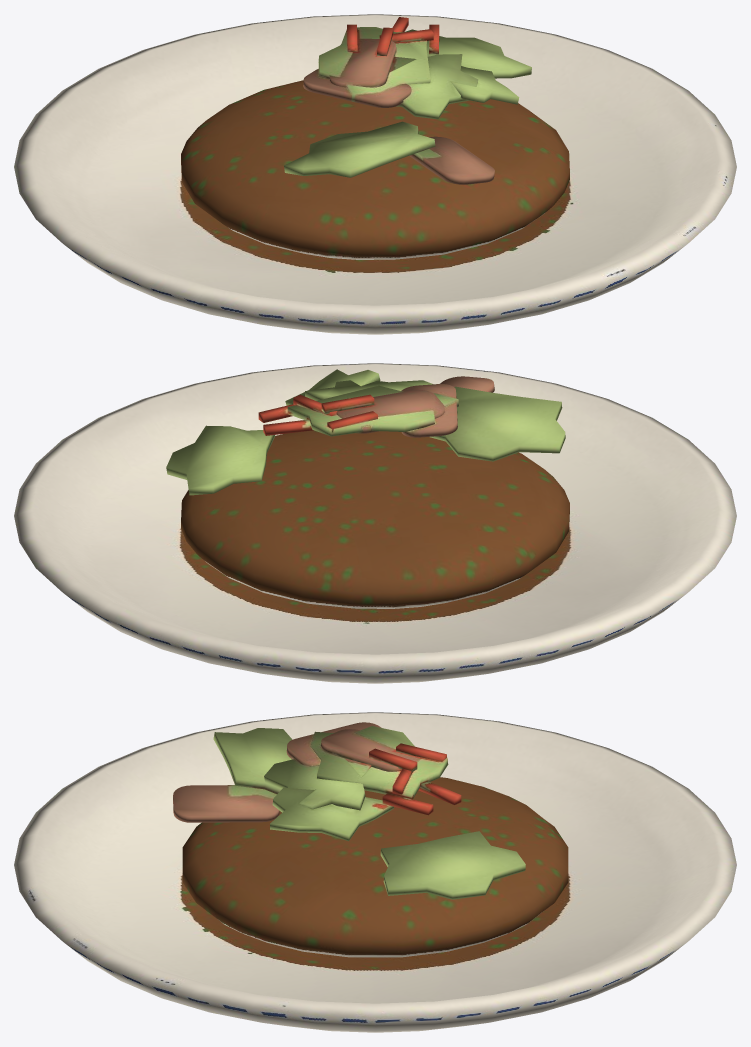
File: yakisoba_nn1.glb
3 renders of one model, top to bottom at view 1: azimuth 30°, elevation 25°; view 2: azimuth 150°, elevation 25°; view 3: azimuth 270°, elevation 25°, orthographic.
Visible parts, largest first — view 1: prop_yakisoba_nn1_felt; view 2: prop_yakisoba_nn1_felt; view 3: prop_yakisoba_nn1_felt.
Part boxes in pixels (x1=…): prop_yakisoba_nn1_felt: x1=14, y1=14, x2=736, y2=334; prop_yakisoba_nn1_felt: x1=14, y1=363, x2=736, y2=683; prop_yakisoba_nn1_felt: x1=14, y1=712, x2=736, y2=1032.
Bounding box in the file's own units: 0.306 × 0.0816 × 0.306.
Materials: 1 (1 with a texture image).
